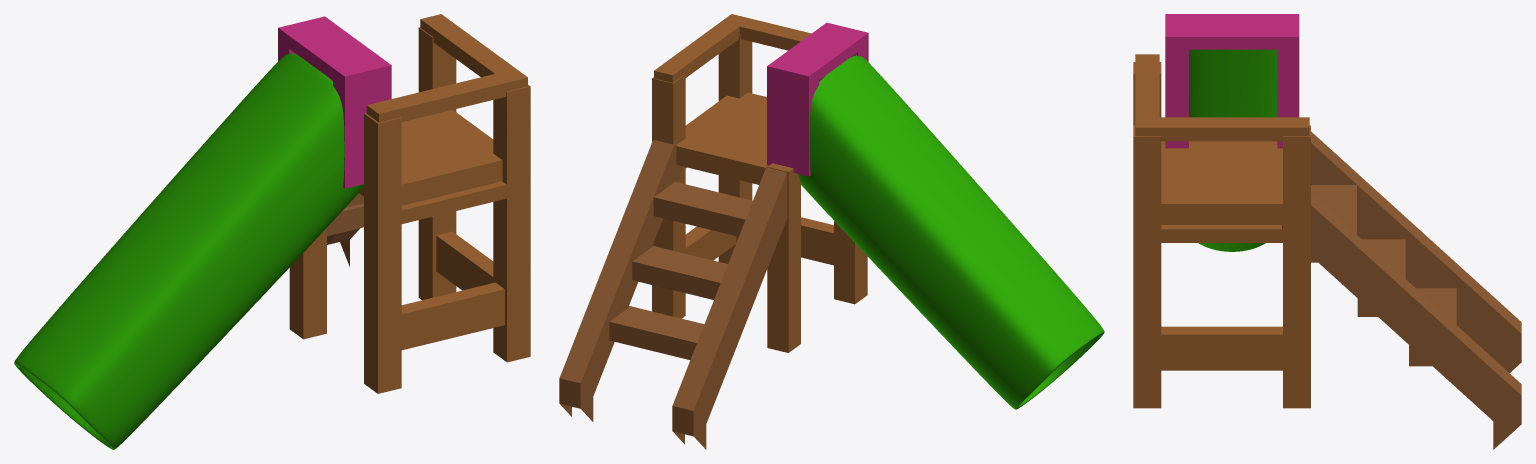
File: горка2.fbx
The picture shows the model from 3 angles, left to right: view 1: azimuth 30°, elevation 25°; view 2: azimuth 150°, elevation 25°; view 3: azimuth 270°, elevation 25°; orthographic projection. The views are drawn at different scales.
Parts seen in each view (by area): view 1: Куб.001, Куб.007, Куб, Cube.002; view 2: Куб.001, Cube.002, Куб.007, Куб; view 3: Куб.007, Cube.002, Куб, Куб.001.
Part boxes in pixels (x1,y1,x2,y2): Куб.001: [14, 53, 363, 449]; Куб.007: [289, 14, 530, 393]; Куб: [278, 16, 391, 188]; Cube.002: [327, 193, 363, 266]; Куб.001: [798, 55, 1104, 409]; Cube.002: [559, 139, 787, 449]; Куб.007: [652, 14, 867, 352]; Куб: [767, 22, 868, 176]; Куб.007: [1133, 54, 1310, 408]; Cube.002: [1282, 131, 1521, 449]; Куб: [1165, 14, 1299, 148]; Куб.001: [1189, 49, 1277, 251].
Bounding box in the file's own units: 690 × 521 × 519.
